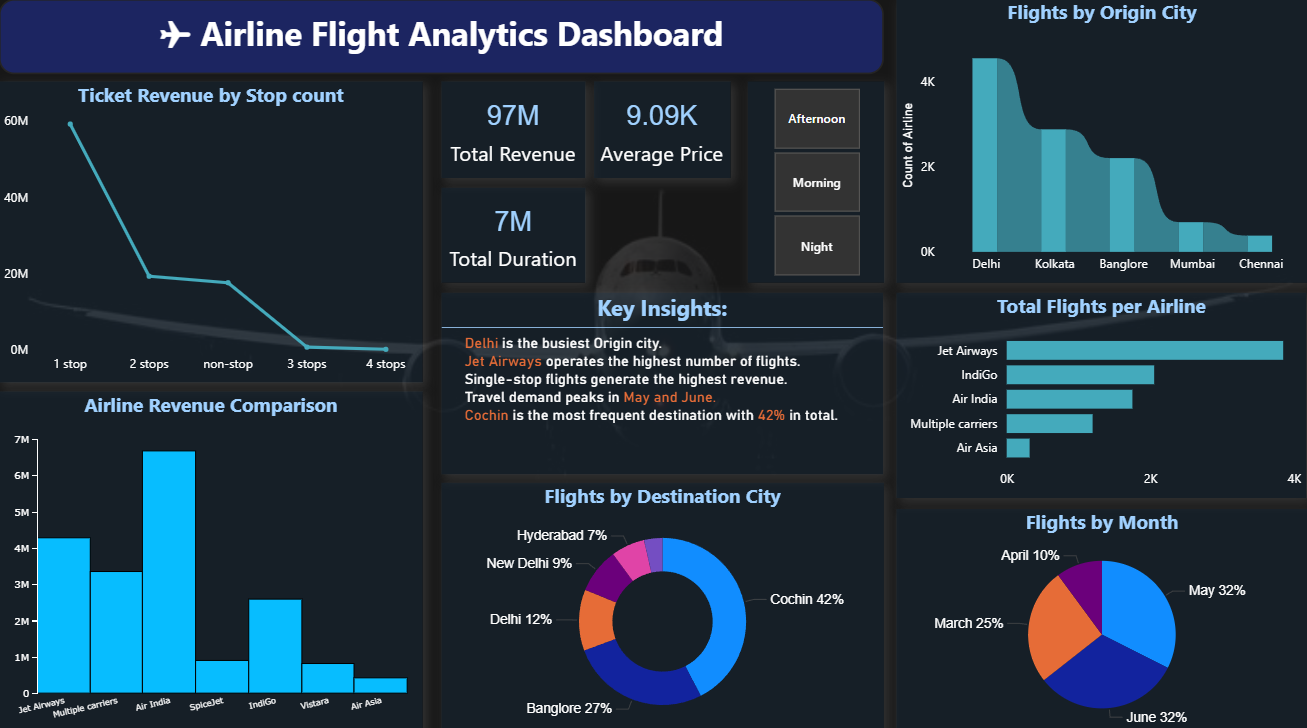

This screenshot's page, from the dashboard's own definition file:
{"tool":"powerbi","page":{"name":"Page 2","canvas":[1280,720],"ordinal":0},"visuals":[{"type":"ribbonChart","title":"Flights by Origin City","fields":{"Category":["Sheet1.Source"],"Y":["CountNonNull(Sheet1.Airline)"]},"box":[878,0,402.3,277.6],"z":0},{"type":"lineChart","title":"Ticket Revenue by Stop count","fields":{"Category":["Sheet1.Total_Stops"],"Y":["Sum(Sheet1.Price)"]},"box":[0,80.7,414.5,294.7],"z":1000},{"type":"donutChart","title":"Flights by Destination City","fields":{"Category":["Sheet1.Destination"],"Y":["CountNonNull(Sheet1.Airline)"]},"box":[432.9,473.2,432.9,247],"z":2000},{"type":"histogramF963F133BA02A0B35D286F09F80E9C78","title":"Airline Revenue Comparison","fields":{"col_2":["Sheet1.Airline"],"col_3":["Sheet1.Price"]},"box":[0,384,414.5,336.3],"z":3000},{"type":"card","fields":{"Values":["Avg(Sheet1.Price)"]},"box":[582.1,80.7,133.3,94.2],"z":4000},{"type":"card","fields":{"Values":["Sum(Sheet1.Duration_minutes)"]},"box":[432.9,184.6,140.6,92.9],"z":5000},{"type":"card","fields":{"Values":["Sum(Sheet1.Price)"]},"box":[432.9,80.7,140.6,94.2],"z":6000},{"type":"slicer","fields":{"Values":["Sheet1.Flight_time"]},"box":[732.5,80.7,133.3,196.9],"z":7000},{"type":"pieChart","title":"Flights by Month","fields":{"Category":["Sheet1.Month_Name"],"Y":["CountNonNull(Sheet1.Airline)"]},"box":[878,498.9,402.3,221.3],"z":8000},{"type":"textbox","box":[0,0,865.8,73.4],"z":9000},{"type":"textbox","title":"Key Insights:","box":[432.9,287.4,431.7,177.3],"z":10000},{"type":"barChart","title":"Total Flights per Airline","fields":{"Category":["Sheet1.Airline"],"Y":["CountNonNull(Sheet1.Airline)"]},"box":[878,287.4,401.1,200.5],"z":11000}]}

Visuals, with their boxes in screenshot pixels (x1, y1, x2, y2), scaled from the page's 1280x720 canvas onto the 1307x728 screenshot:
"Flights by Origin City" ribbonChart: (897, 0, 1306, 281)
"Ticket Revenue by Stop count" lineChart: (0, 82, 423, 380)
"Flights by Destination City" donutChart: (442, 478, 884, 727)
"Airline Revenue Comparison" histogramF963F133BA02A0B35D286F09F80E9C78: (0, 388, 423, 727)
card - Avg(Sheet1.Price): (594, 82, 730, 177)
card - Sum(Sheet1.Duration_minutes): (442, 187, 586, 281)
card - Sum(Sheet1.Price): (442, 82, 586, 177)
slicer - Sheet1.Flight_time: (748, 82, 884, 281)
"Flights by Month" pieChart: (897, 504, 1306, 727)
textbox: (0, 0, 884, 74)
"Key Insights:" textbox: (442, 291, 883, 470)
"Total Flights per Airline" barChart: (897, 291, 1306, 493)
